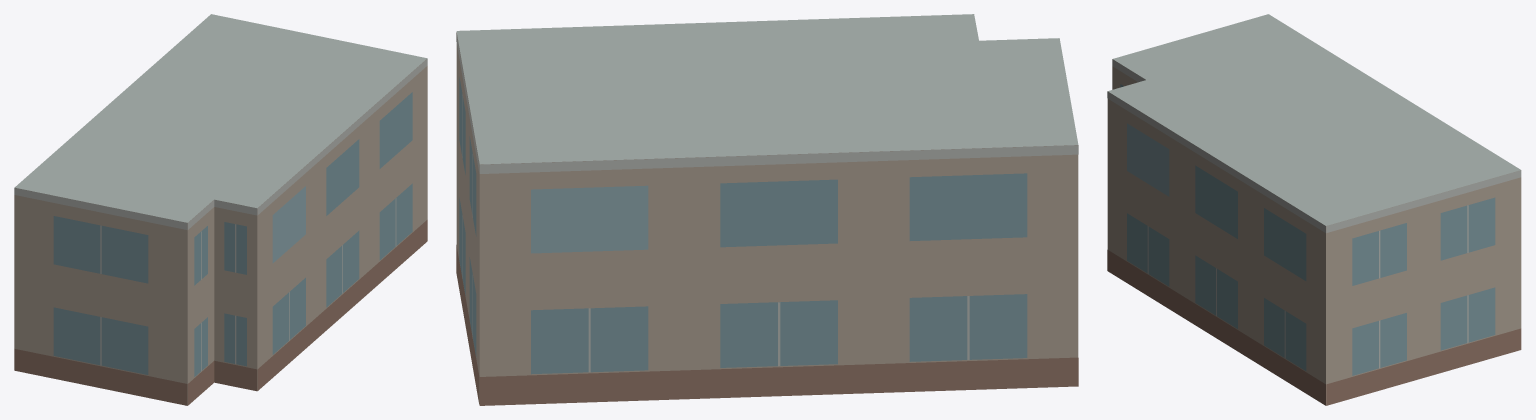
The model's file is survey-upis-32800440.glb.
The picture shows the model from 3 angles, left to right: view 1: azimuth 30°, elevation 25°; view 2: azimuth 150°, elevation 25°; view 3: azimuth 270°, elevation 25°; orthographic projection. The views are drawn at different scales.
Visible parts, largest first — view 1: survey-upis-32800440.tmp; view 2: survey-upis-32800440.tmp; view 3: survey-upis-32800440.tmp.
Part boxes in pixels (x1,y1,x2,y2): survey-upis-32800440.tmp: (14,14,427,405); survey-upis-32800440.tmp: (456,14,1078,405); survey-upis-32800440.tmp: (1107,14,1521,405).
Bounding box in the file's own units: 15.44 × 6.1 × 12.73.
